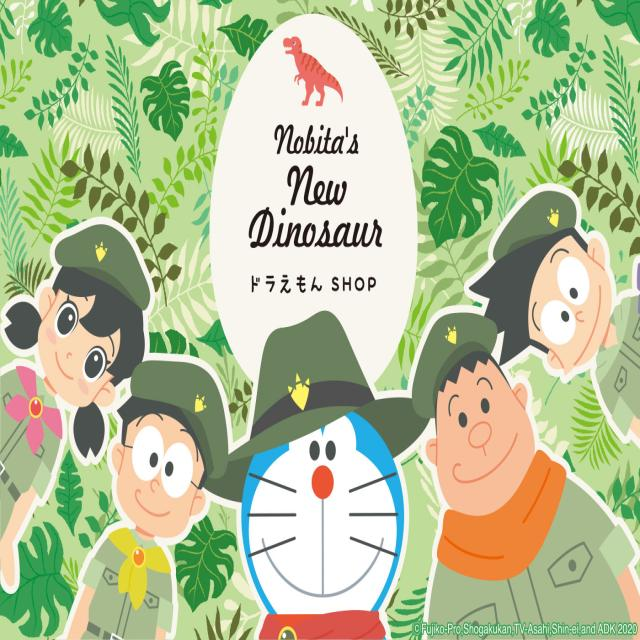doraemon: (229, 384, 416, 639)
jaian: (412, 325, 553, 555)
nobita: (102, 364, 234, 596)
shizuka: (18, 233, 154, 462)
suneo: (463, 206, 637, 405)
